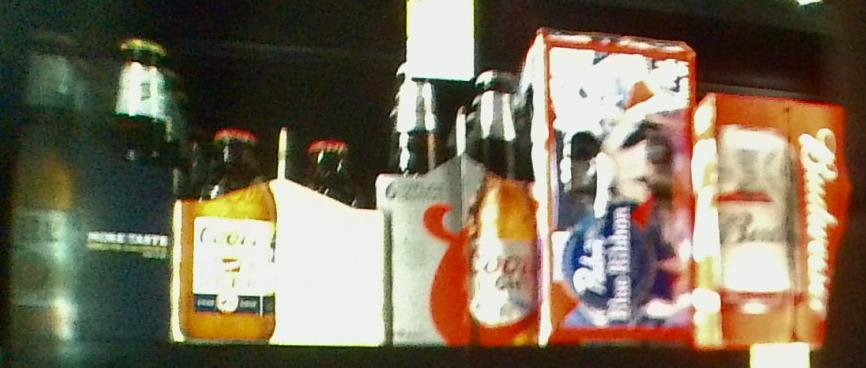bottle: (530, 27, 703, 348), (6, 16, 171, 351), (176, 111, 387, 345), (387, 48, 539, 346), (702, 80, 837, 352)
